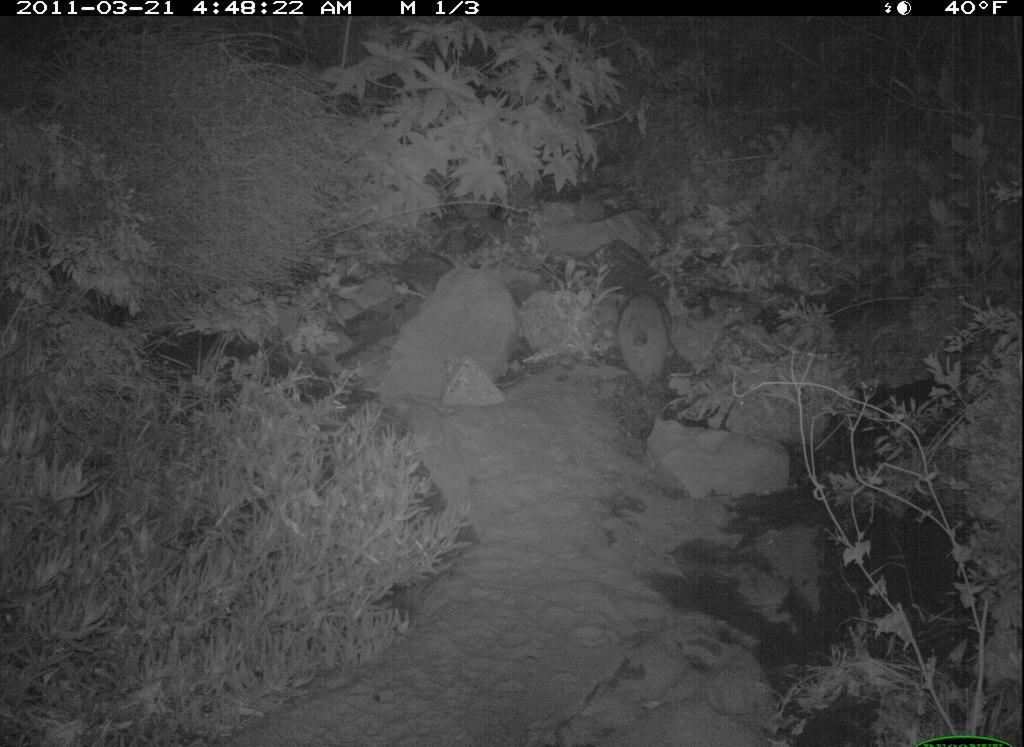raccoon: (597, 283, 688, 404)
